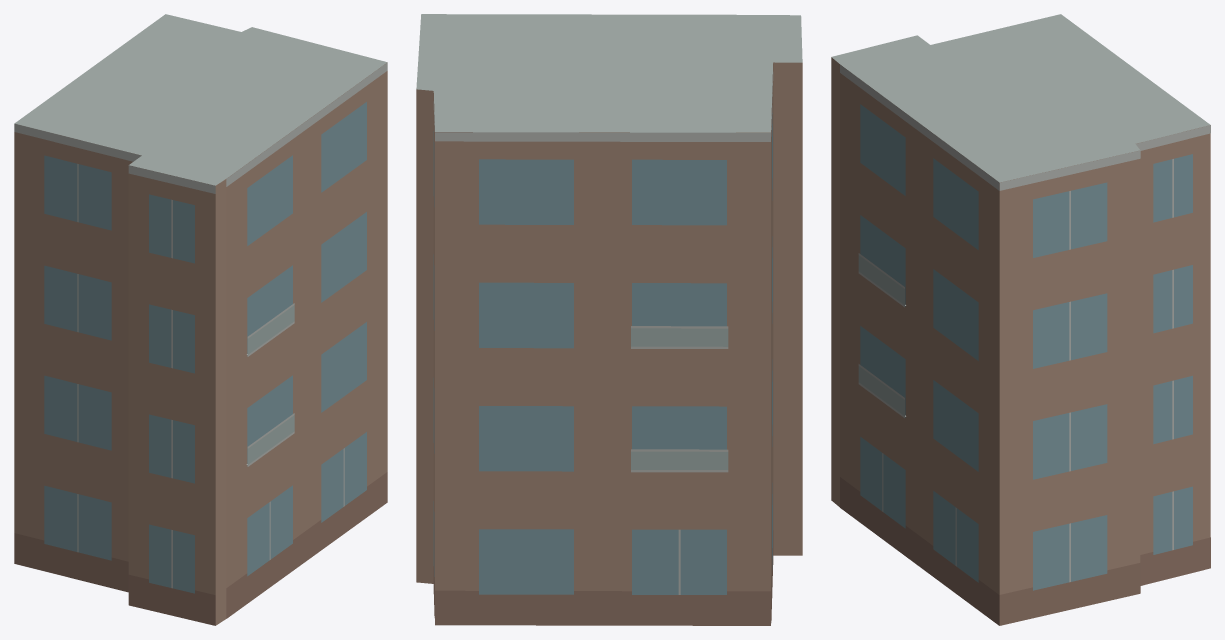
The model's file is survey-upis-32474951.glb.
3 views of the same model, side by side, from view 1: azimuth 30°, elevation 25°; view 2: azimuth 150°, elevation 25°; view 3: azimuth 270°, elevation 25° (orthographic). The views are drawn at different scales.
Parts seen in each view (by area): view 1: survey-upis-32474951.tmp; view 2: survey-upis-32474951.tmp; view 3: survey-upis-32474951.tmp.
Part boxes in pixels (bbox=[...]): survey-upis-32474951.tmp: bbox=[14, 14, 387, 625]; survey-upis-32474951.tmp: bbox=[416, 14, 802, 625]; survey-upis-32474951.tmp: bbox=[831, 14, 1210, 625].
Bounding box in the file's own units: 10.44 × 12.8 × 9.94.
